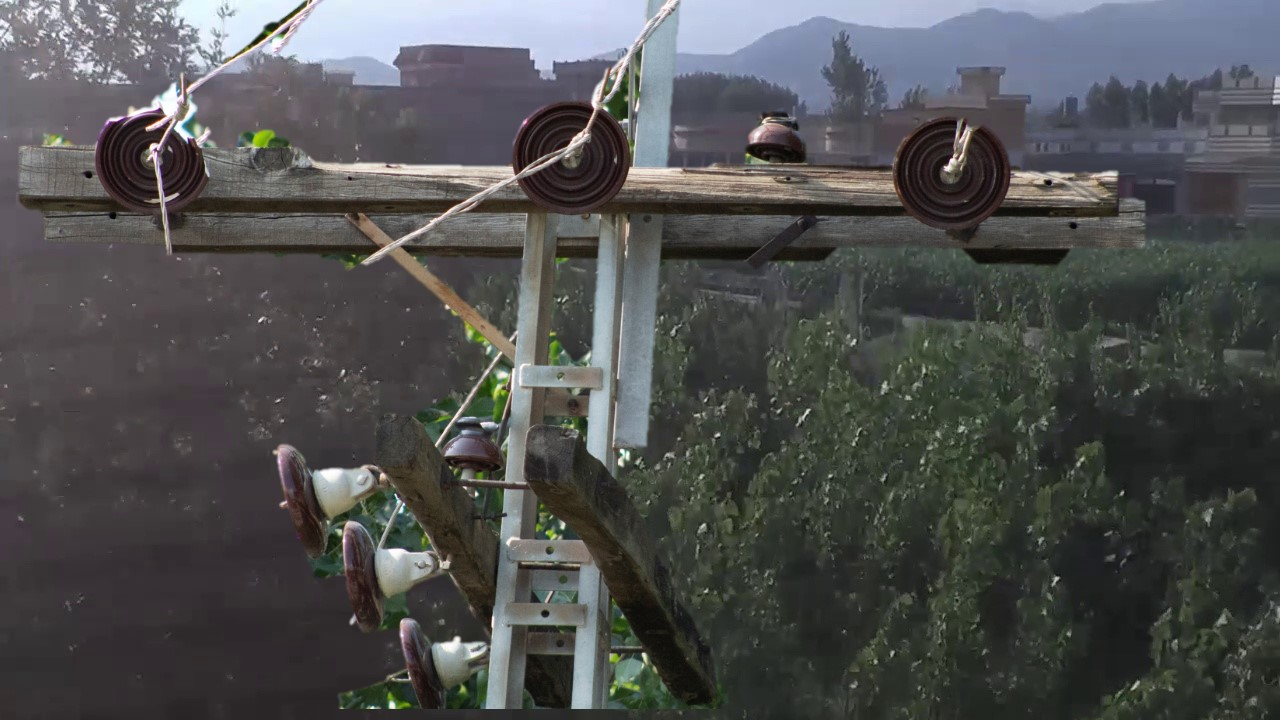defect_disc: (95, 99, 219, 217)
insulator_disc: (889, 104, 1015, 243), (507, 94, 637, 225), (388, 609, 475, 712), (327, 516, 397, 640), (271, 433, 339, 556)
insulator_pin: (742, 99, 811, 170), (441, 409, 504, 478)
